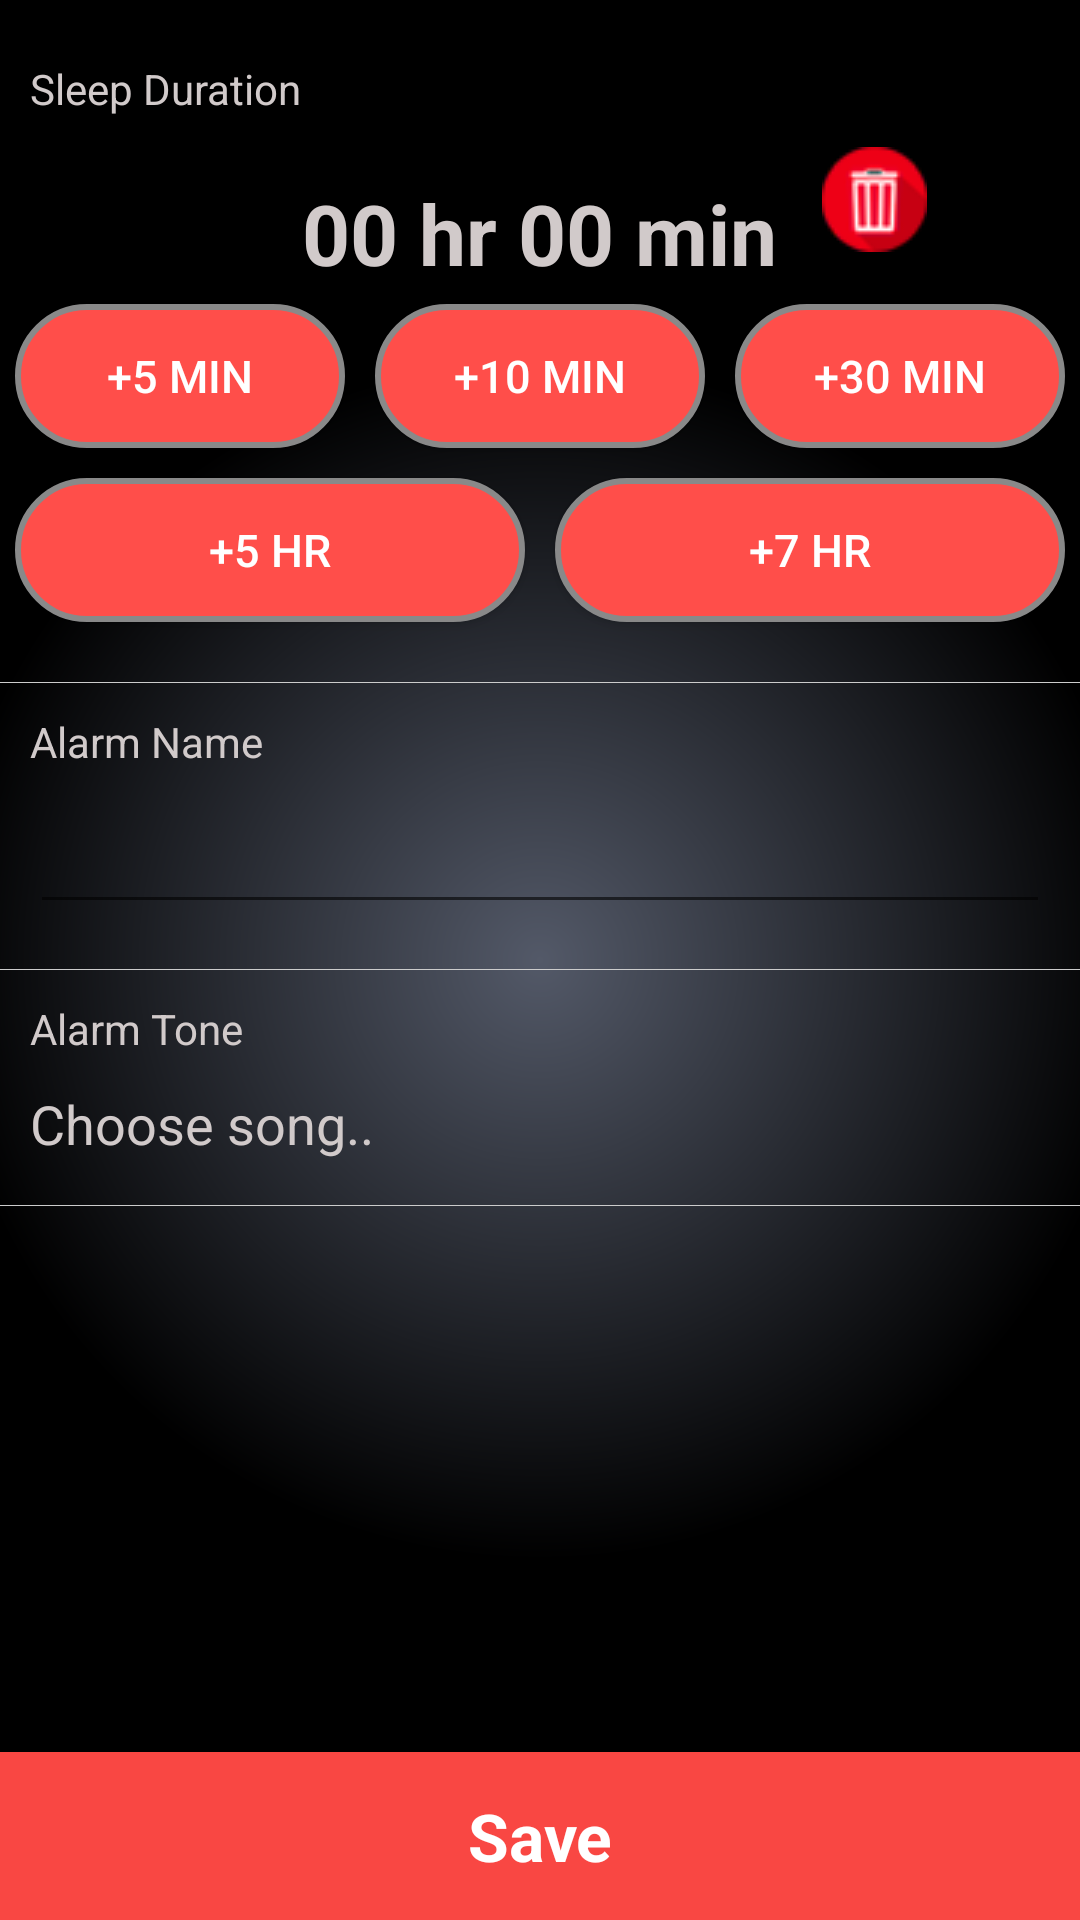

Where icons sit on this 1080px x 1920px app screen, as [x1,y1,x2,y2]:
trash: [822,147,927,252]
